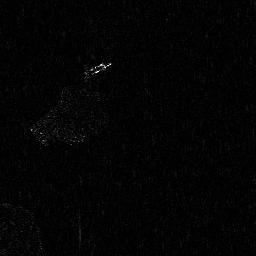ship: (83, 62, 112, 77)
